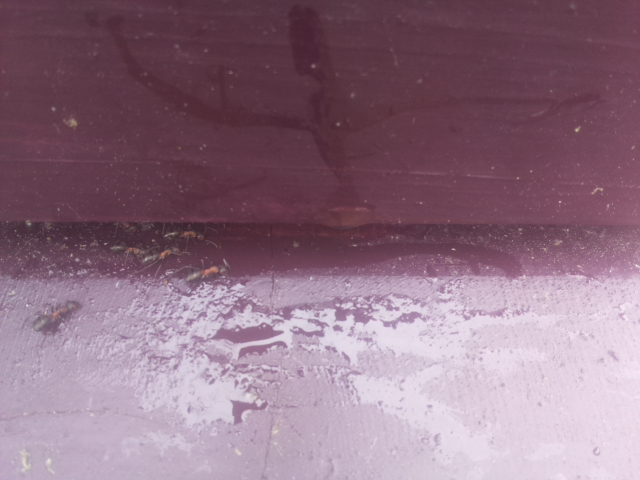ant: (25, 296, 87, 339), (178, 259, 232, 291)
